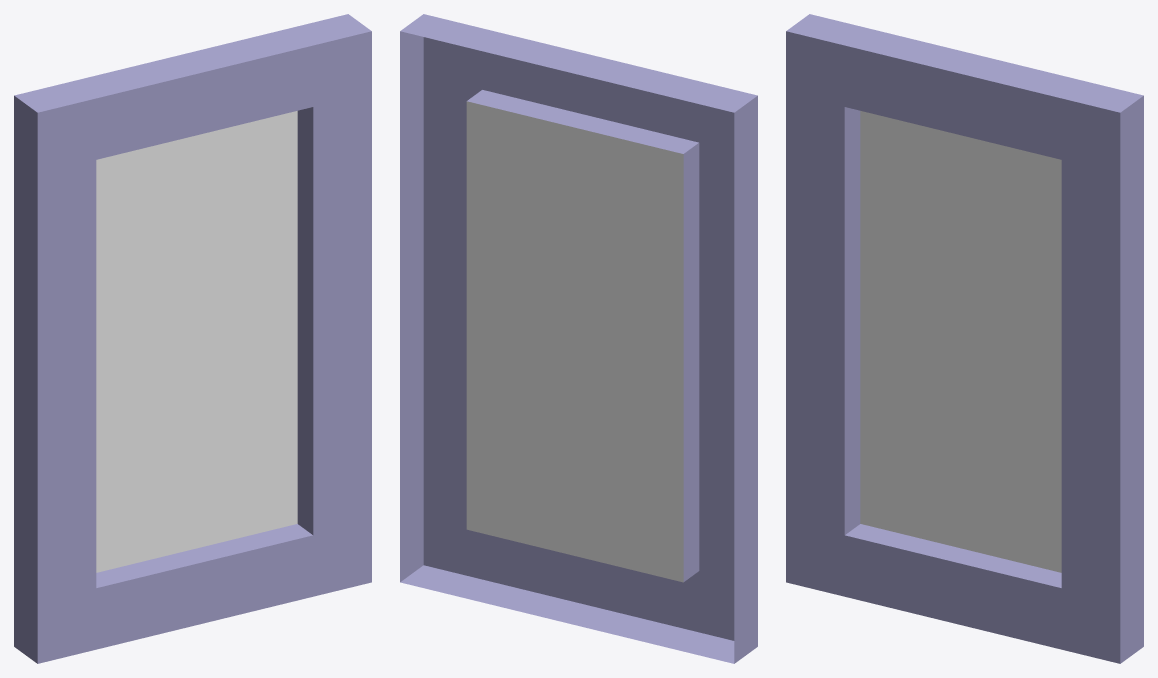
Rendered from window8.obj.
3 renders of one model, left to right at view 1: azimuth 30°, elevation 25°; view 2: azimuth 150°, elevation 25°; view 3: azimuth 330°, elevation 25°, orthographic.
Parts seen in each view (by area): view 1: mergedBlocks; view 2: mergedBlocks; view 3: mergedBlocks.
Boxes of the visible parts, x1,y1,x2,y2 form: mergedBlocks: [14, 14, 371, 663]; mergedBlocks: [400, 14, 757, 663]; mergedBlocks: [786, 14, 1143, 663].
Size of the model in its own units: 0.246 by 0.3877 by 0.03.
